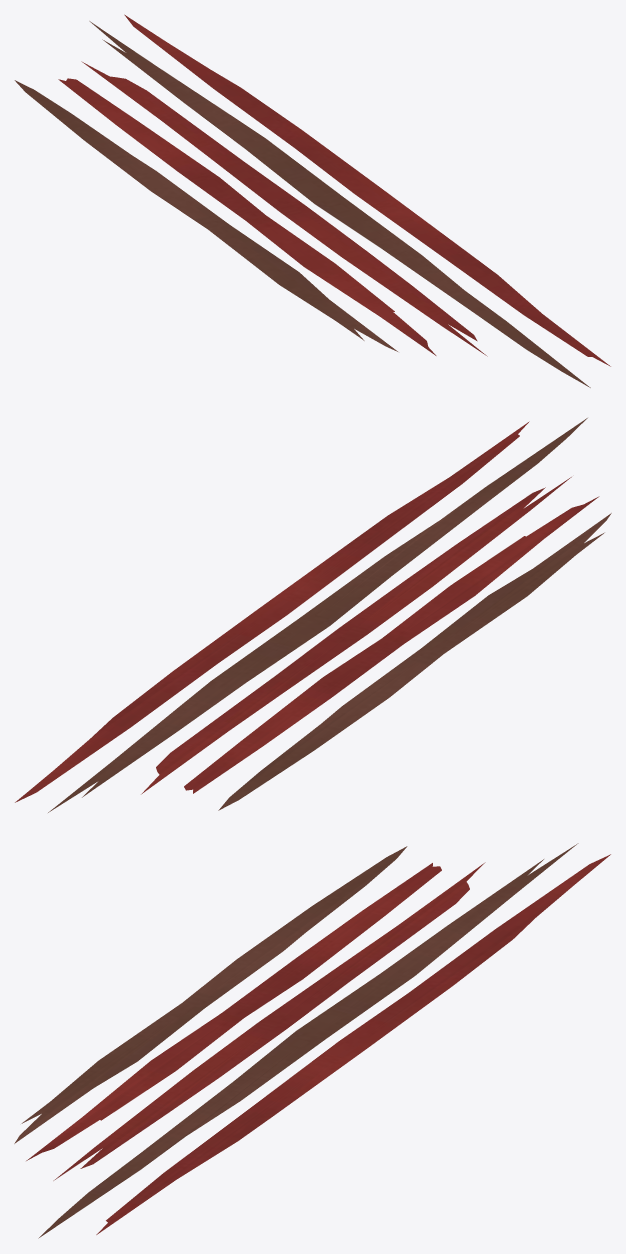
Rendered from blood_finger_drag.glb.
3 views of the same model, one above another, from view 1: azimuth 30°, elevation 25°; view 2: azimuth 150°, elevation 25°; view 3: azimuth 330°, elevation 25° (orthographic). The views are drawn at different scales.
Visible parts, largest first — view 1: blood_finger_drag; view 2: blood_finger_drag; view 3: blood_finger_drag.
Part boxes in pixels (x1,y1,x2,y2): blood_finger_drag: (14, 14, 610, 387); blood_finger_drag: (15, 418, 611, 812); blood_finger_drag: (14, 843, 610, 1238).
Bounding box in the file's own units: 0.1467 × 0.000296 × 0.7269.
Materials: 2 (2 with a texture image).
